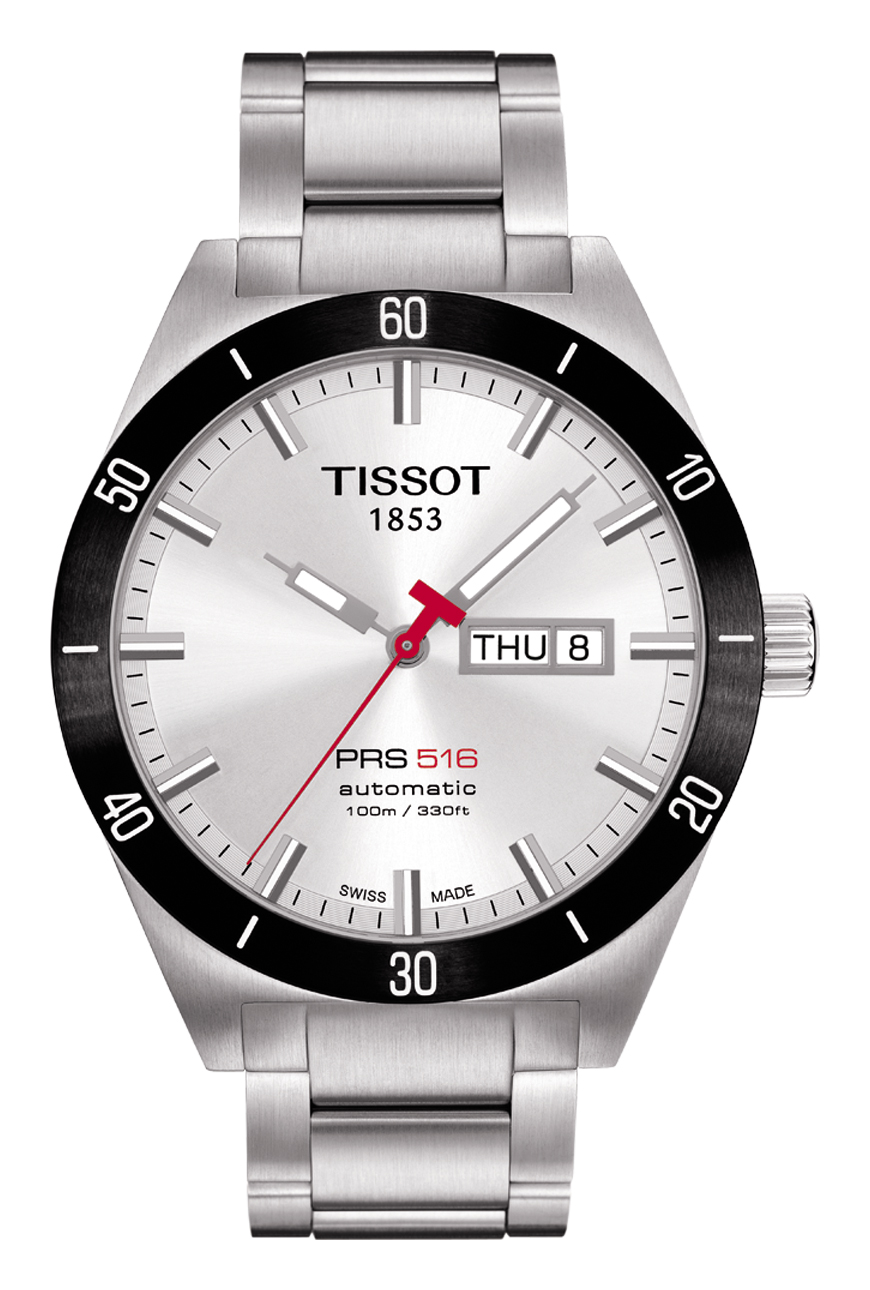clock: (51, 287, 771, 1006)
